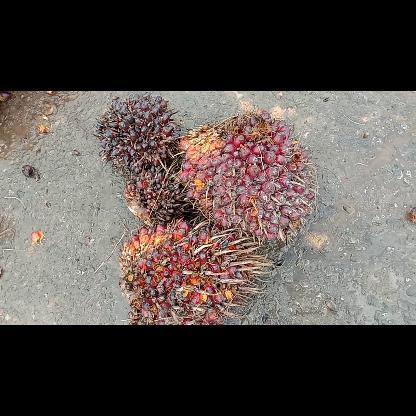TBS abnormal: (92, 94, 182, 172), (122, 160, 192, 228)
TBS masak: (175, 101, 321, 251), (116, 216, 274, 324)
